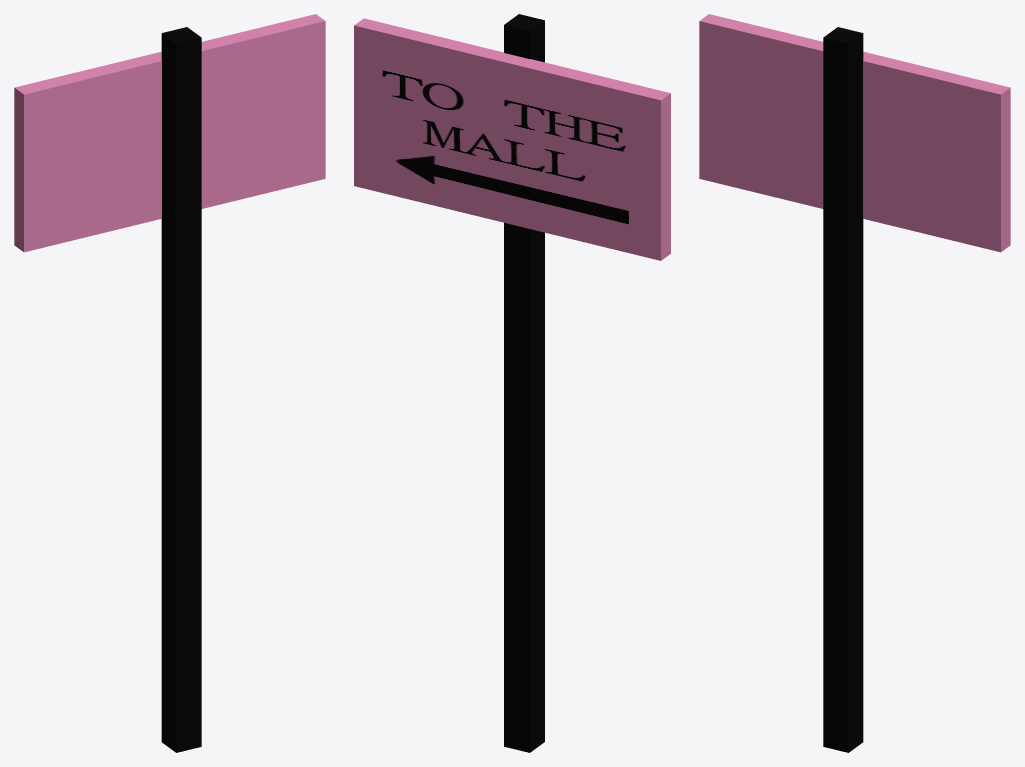
File: Mall_Sign.fbx
The picture shows the model from 3 angles, left to right: view 1: azimuth 30°, elevation 25°; view 2: azimuth 150°, elevation 25°; view 3: azimuth 330°, elevation 25°; orthographic projection.
Parts seen in each view (by area): view 1: Cube, Pillar; view 2: Cube, Pillar; view 3: Cube, Pillar.
Boxes of the visible parts, x1,y1,x2,y2 form: Cube: [14, 14, 325, 252]; Pillar: [161, 27, 201, 752]; Cube: [354, 18, 670, 260]; Pillar: [504, 14, 544, 752]; Cube: [699, 14, 1010, 252]; Pillar: [823, 27, 863, 752].
Size of the model in its own units: 245 by 550 by 33.61.
